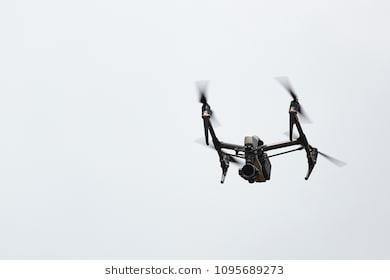drone: (179, 68, 355, 194)
